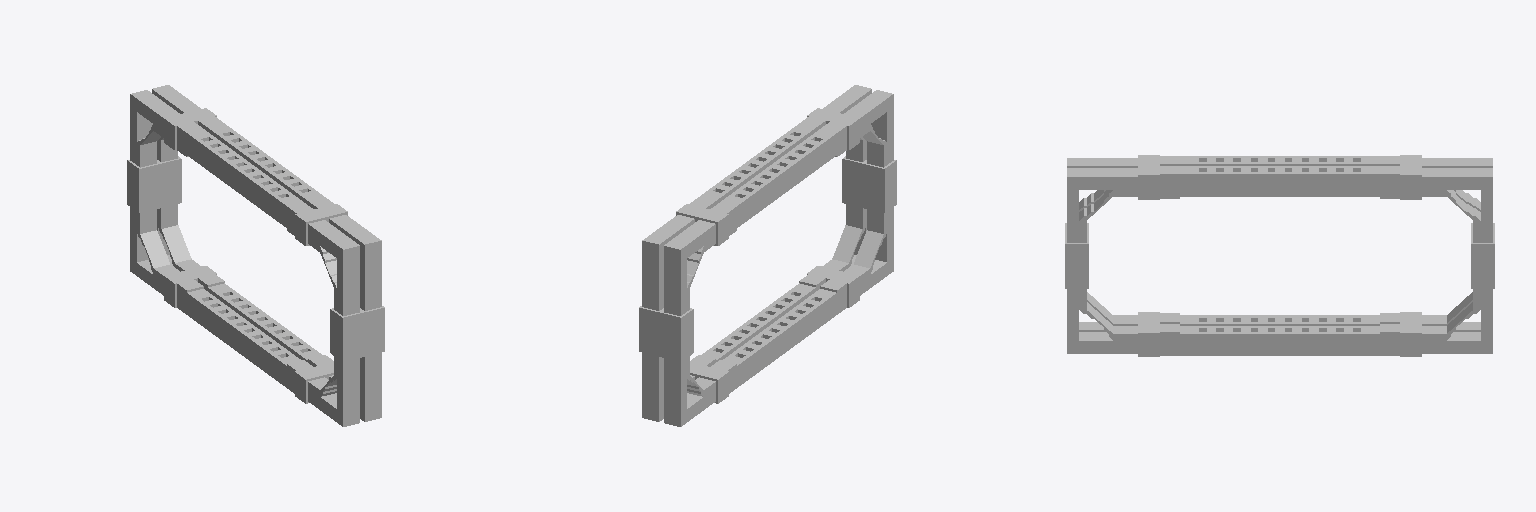
The model's file is PitWorld.obj.
The picture shows the model from 3 angles: view 1: azimuth 30°, elevation 25°; view 2: azimuth 150°, elevation 25°; view 3: azimuth 270°, elevation 25°; orthographic projection.
Visible parts, largest first — view 1: Structure_C.001; view 2: Structure_C.001; view 3: Structure_C.001.
Boxes of the visible parts, <box> form: Structure_C.001: <box>127,85,384,426</box>; Structure_C.001: <box>639,85,896,426</box>; Structure_C.001: <box>1065,155,1494,356</box>.
Bounding box in the file's own units: 20 × 82 × 176.